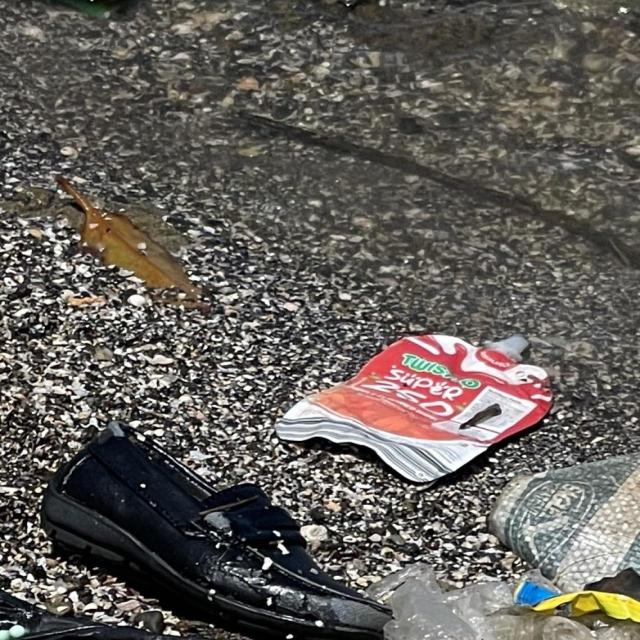plastic_waste: (278, 332, 559, 483)
rubber_waste: (41, 421, 396, 640)
